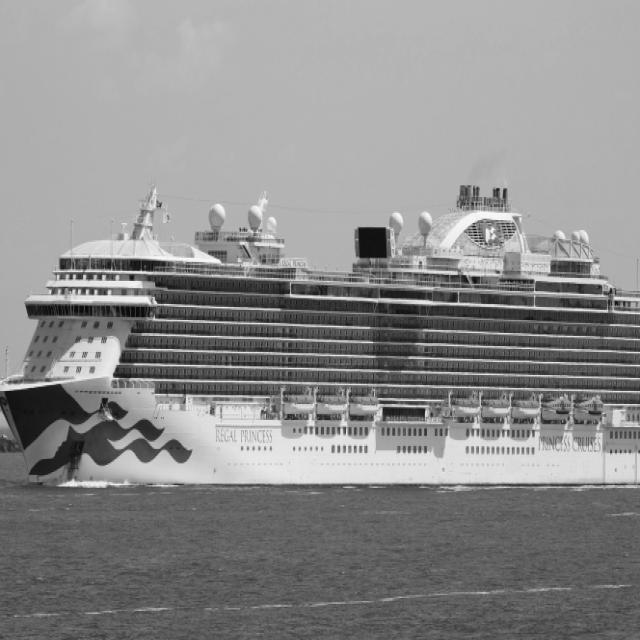cruises: (1, 176, 640, 502)
